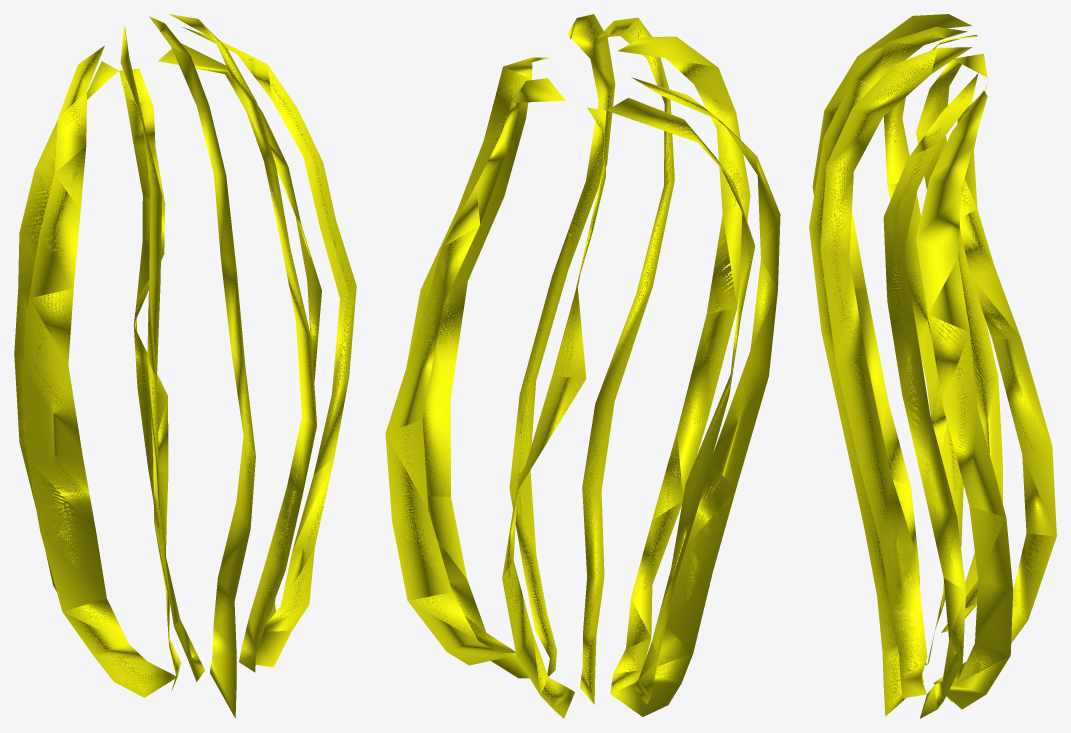
Rendered from rb-Business_Female_04.glb.
3 renders of one model, left to right at view 1: azimuth 30°, elevation 25°; view 2: azimuth 150°, elevation 25°; view 3: azimuth 270°, elevation 25°, orthographic. The views are drawn at different scales.
Visible parts, largest first — view 1: hair_Business_Female_04; view 2: hair_Business_Female_04; view 3: hair_Business_Female_04.
Part boxes in pixels (x1,y1,x2,y2): hair_Business_Female_04: (14, 14, 356, 718); hair_Business_Female_04: (385, 14, 780, 718); hair_Business_Female_04: (809, 14, 1056, 718).
Size of the model in its own units: 0.0973 by 0.187 by 0.0628.
1 material, 1 textured.
